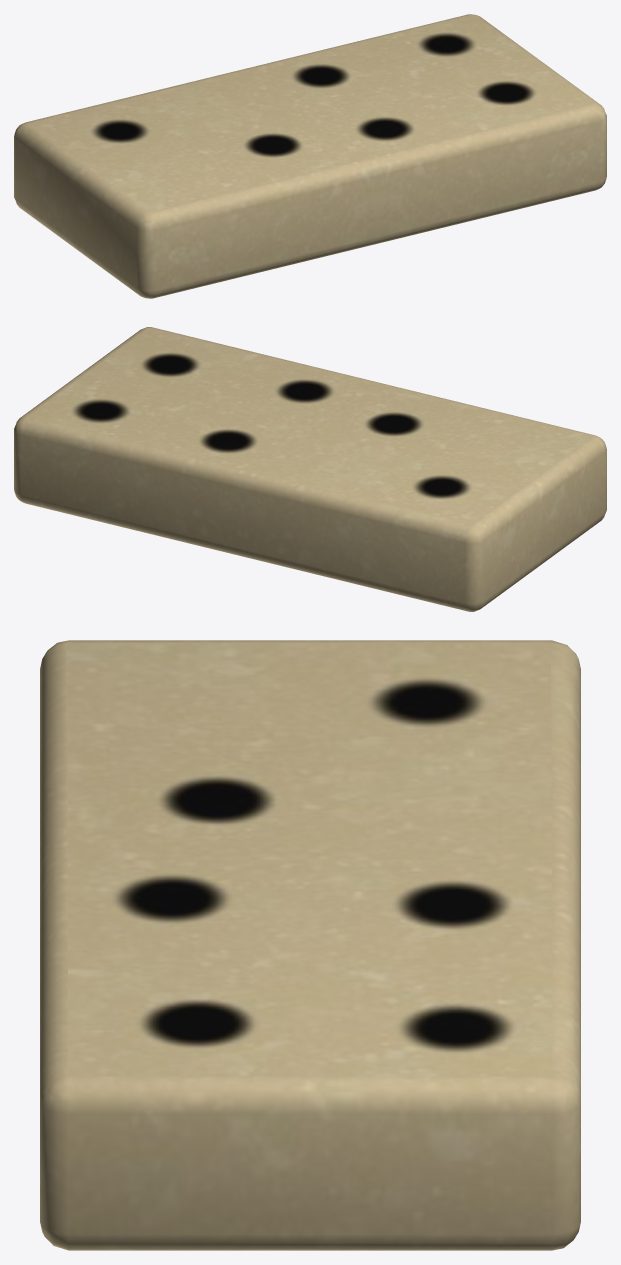
File: SM_Domino_4_2.fbx
The picture shows the model from 3 angles, top to bottom: view 1: azimuth 30°, elevation 25°; view 2: azimuth 150°, elevation 25°; view 3: azimuth 270°, elevation 25°; orthographic projection. The views are drawn at different scales.
Visible parts, largest first — view 1: SM_Domino_4/2; view 2: SM_Domino_4/2; view 3: SM_Domino_4/2.
Part boxes in pixels (x1,y1,x2,y2): SM_Domino_4/2: (14,14,606,298); SM_Domino_4/2: (14,327,606,611); SM_Domino_4/2: (40,640,580,1250).
Size of the model in its own units: 5.08 by 0.889 by 2.54.
